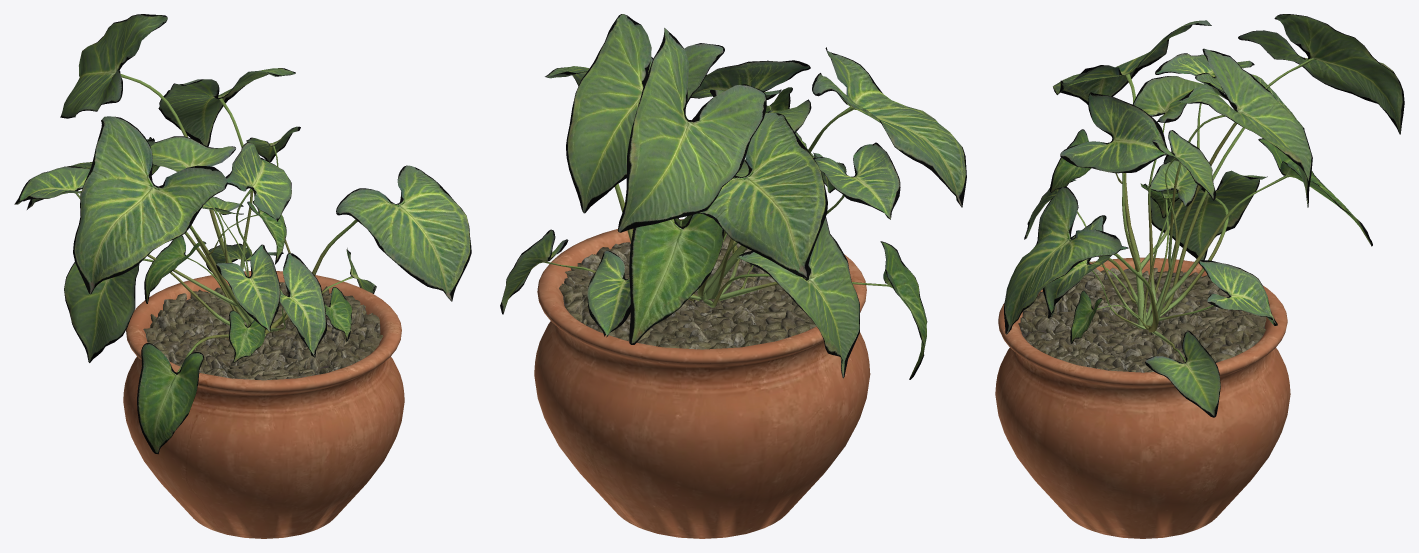
Rendered from potted_plant_02.glb.
3 views of the same model, side by side, from view 1: azimuth 30°, elevation 25°; view 2: azimuth 150°, elevation 25°; view 3: azimuth 270°, elevation 25° (orthographic). The views are drawn at different scales.
Visible parts, largest first — view 1: potted_plant_02_leaves, potted_plant_02_pot; view 2: potted_plant_02_leaves, potted_plant_02_pot; view 3: potted_plant_02_pot, potted_plant_02_leaves.
Part boxes in pixels (bbox=[...]): potted_plant_02_leaves: bbox=[14, 14, 471, 454]; potted_plant_02_pot: bbox=[123, 271, 404, 538]; potted_plant_02_leaves: bbox=[500, 14, 966, 379]; potted_plant_02_pot: bbox=[534, 219, 870, 538]; potted_plant_02_pot: bbox=[995, 257, 1290, 538]; potted_plant_02_leaves: bbox=[1004, 14, 1404, 417].
Bounding box in the file's own units: 0.7009 × 0.8412 × 0.6574.
2 materials, 2 textured.
